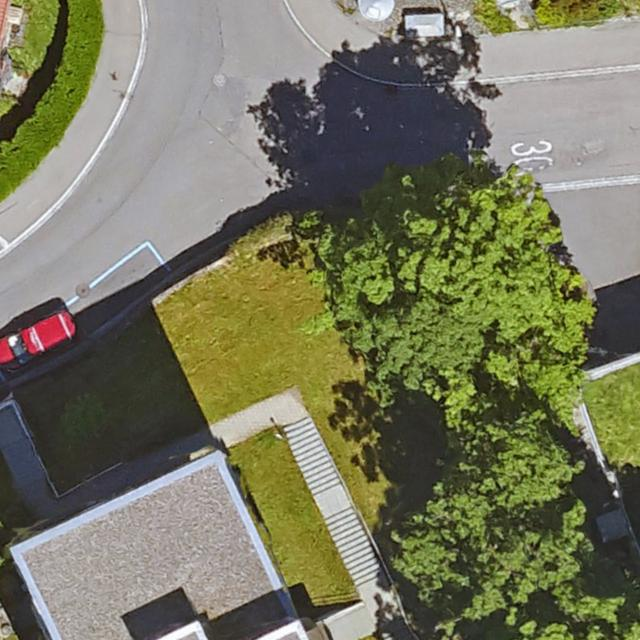tree: (331, 173, 588, 394), (391, 431, 583, 640)
